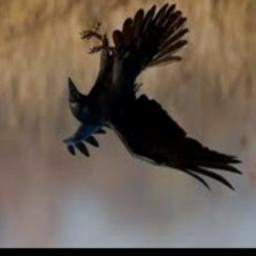Crow: (63, 3, 242, 194)
